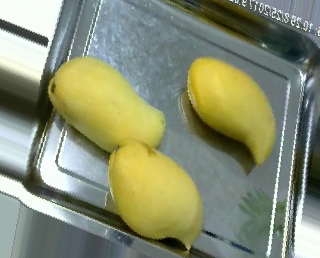Mango: (48, 52, 168, 155), (105, 137, 208, 253), (183, 56, 284, 163)
